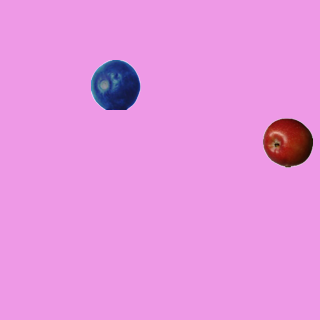Apple Braeburn: (262, 117, 312, 167)
Huckleberry: (90, 59, 140, 109)
